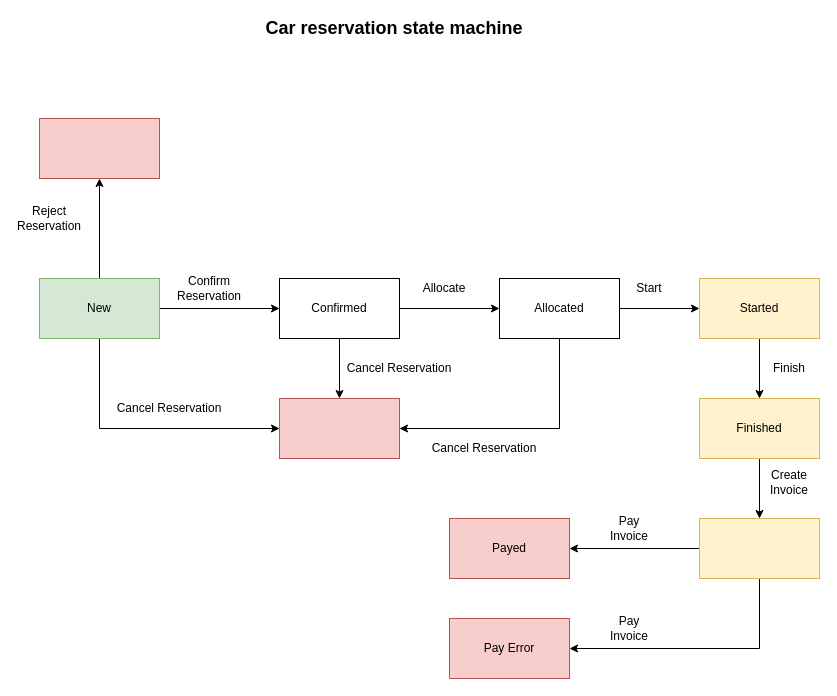
Image size: 837x696. Some labels were removed from this diagram. Here are the shapes that lost their labels. From the top down, the centre of each, then its label:
point 99,148: Rejected
point 339,428: Cancelled
point 759,548: Waiting for paying
